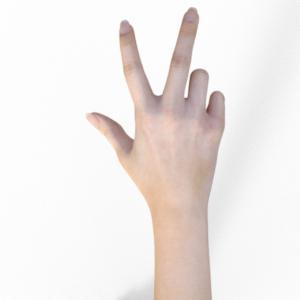scissors: (87, 8, 224, 300)
